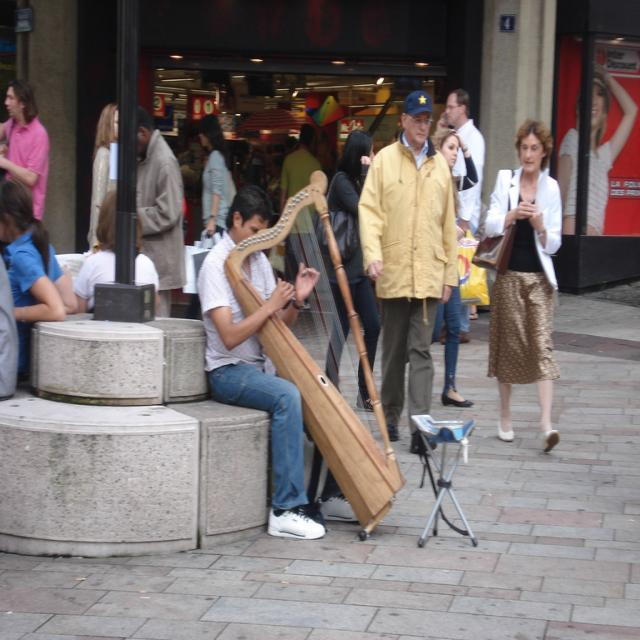harp: (223, 168, 408, 532)
